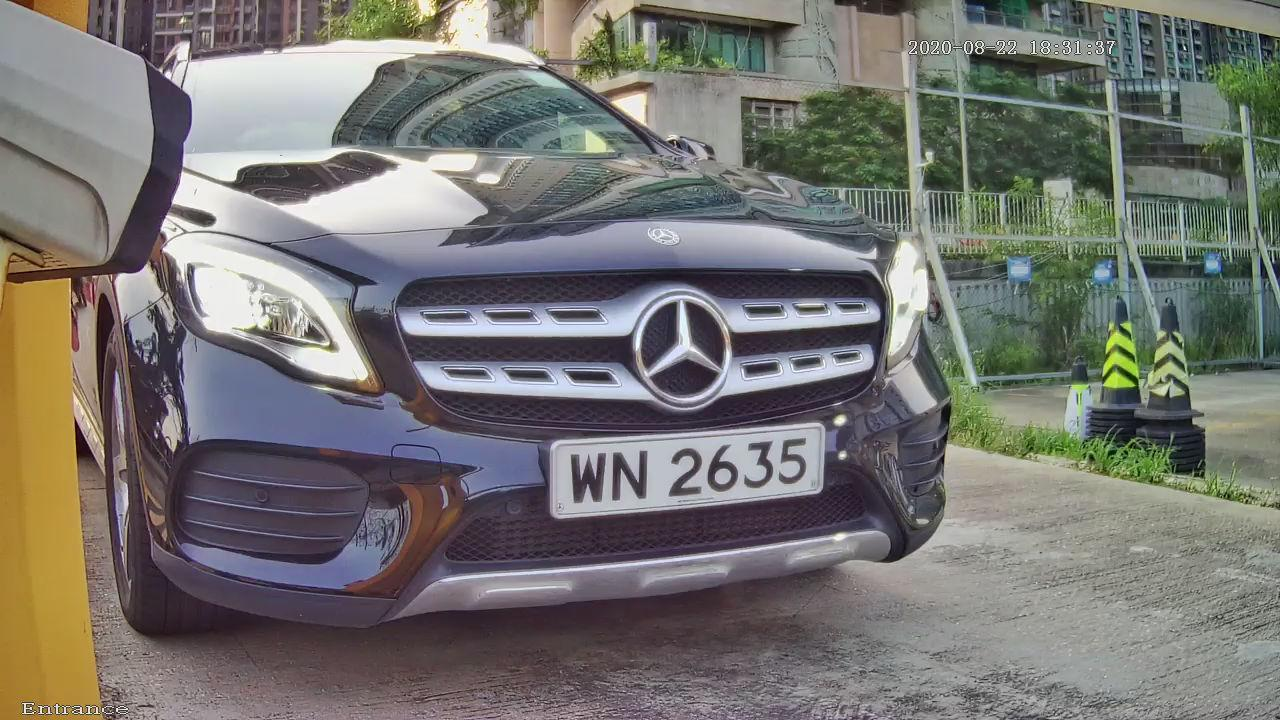License Plate: (512, 379, 859, 546)
